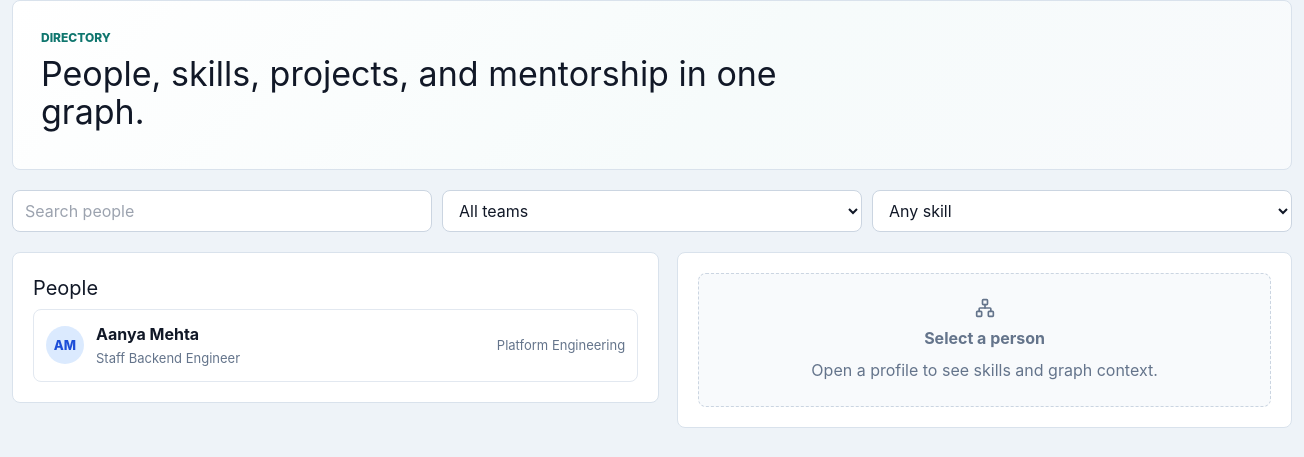
it: PeoplePage › renders list and profile failure states
The image size is (1304, 457).
Click the button "AM Aanya Mehta Staff Backend Engineer Platform Engineering": [65, 345] box left=33, top=309, right=638, bottom=382
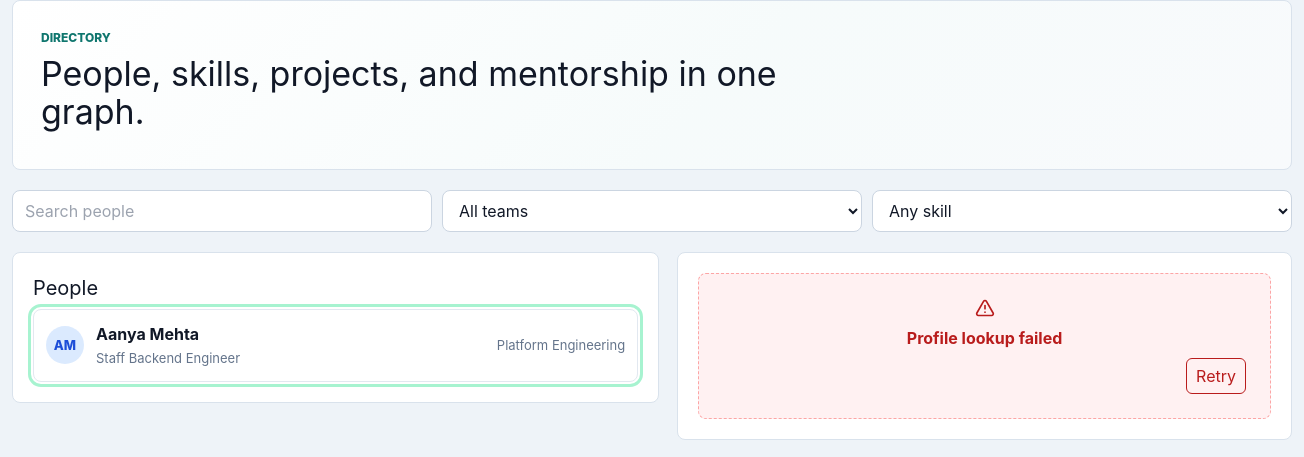
Now the text "Profile lookup failed" is shown, box left=907, top=326, right=1062, bottom=350
